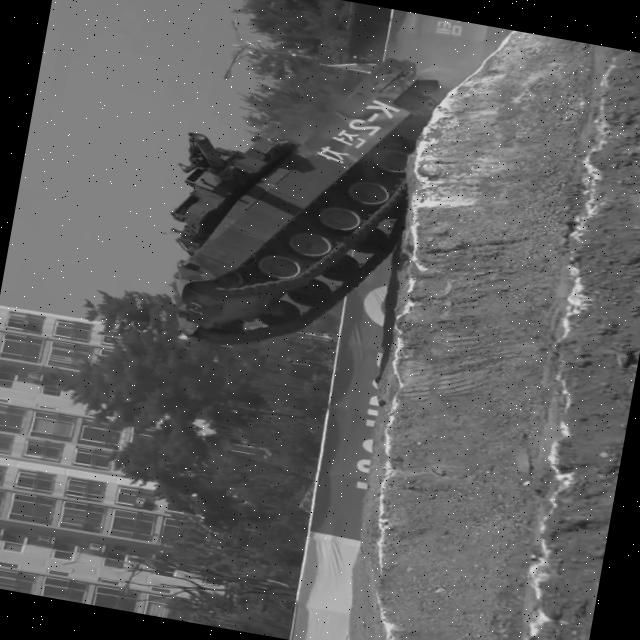korea tank: (140, 19, 454, 377)
